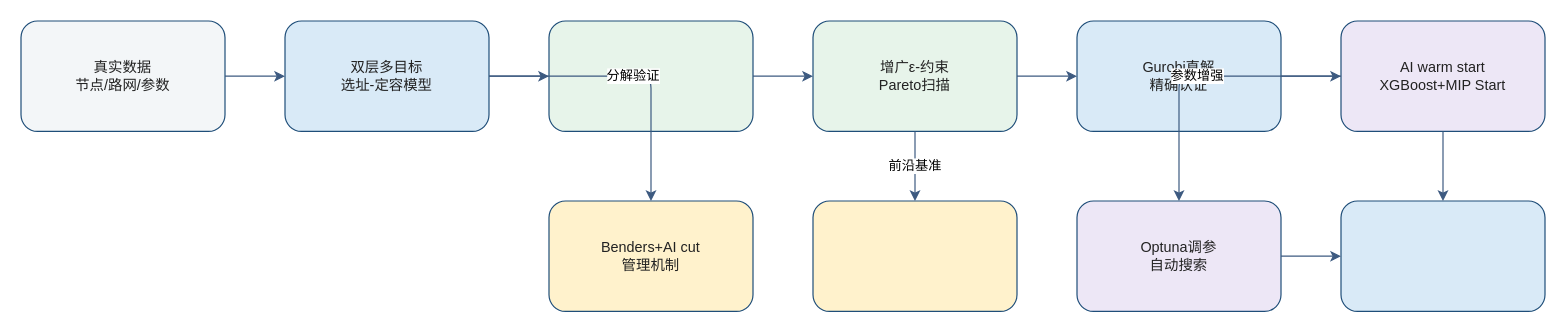
This 1566x332 diagram has some shape labels left out. Here are the shapes that lost their labels. From the top down, the centre of each, then its label:
[650,75]: KKT条件 单层化
[914,255]: NSGA-III/ALNS 基线对比
[1442,255]: 决策输出 布局/容量/前沿
